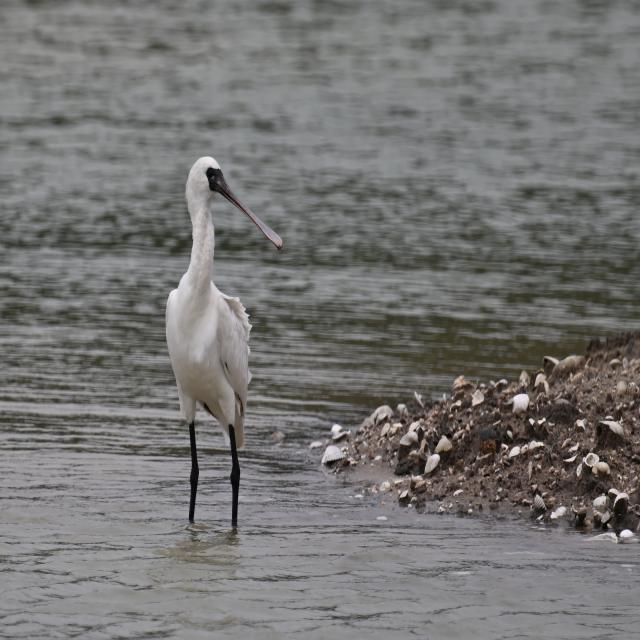Black-faced spoonbill: (166, 158, 282, 525)
